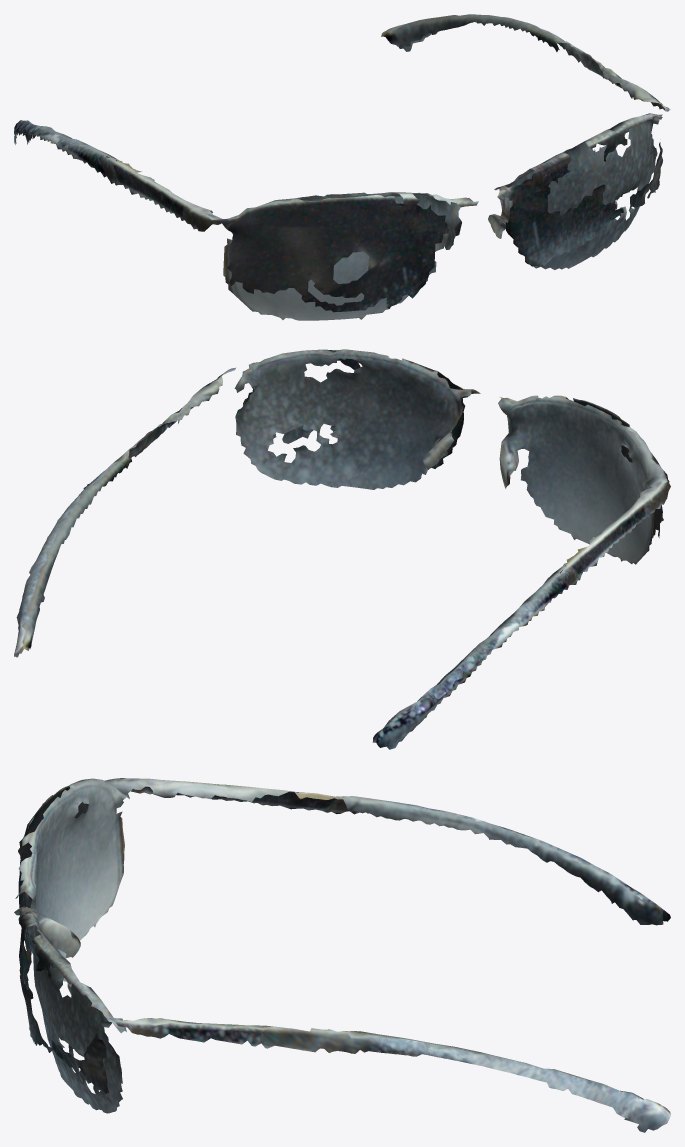
Rendered from scan_align.obj.
The picture shows the model from 3 angles, top to bottom: view 1: azimuth 30°, elevation 25°; view 2: azimuth 150°, elevation 25°; view 3: azimuth 270°, elevation 25°; orthographic projection. The views are drawn at different scales.
Bounding box in the file's own units: 0.142 × 0.0388 × 0.1539.
Materials: 1 (1 with a texture image).
